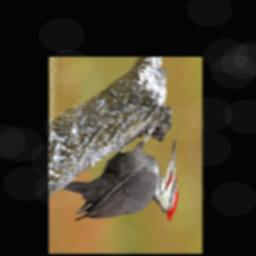Woodpecker: (59, 121, 178, 223)
